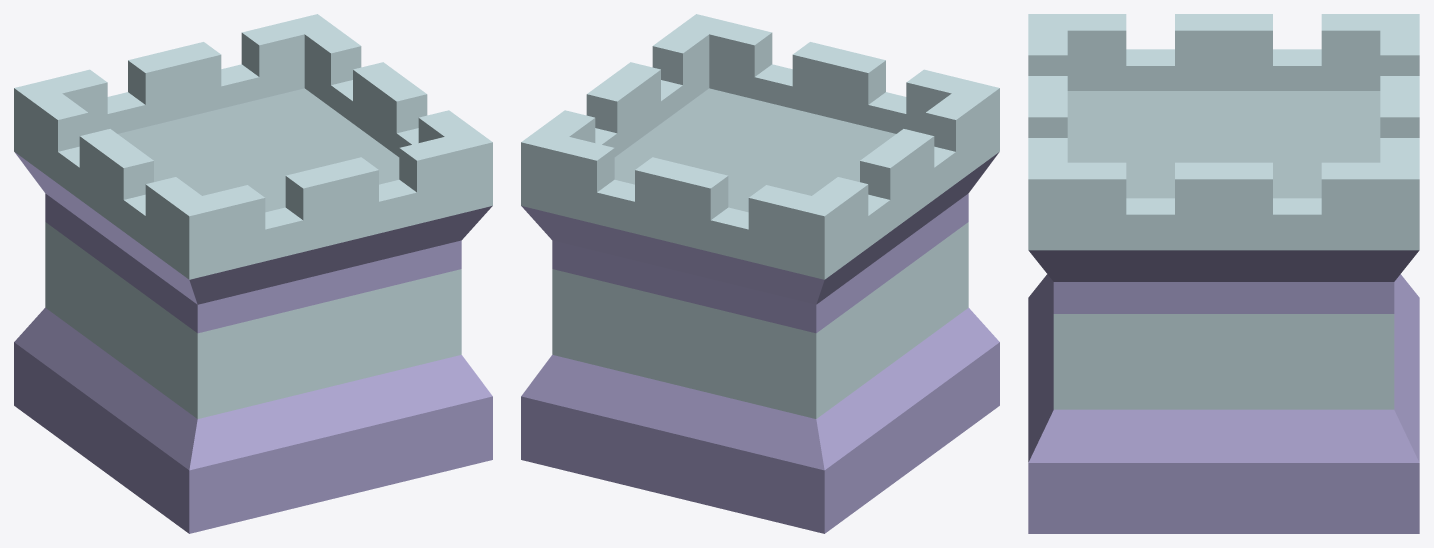
Rendered from tower_short.glb.
3 views of the same model, side by side, from view 1: azimuth 30°, elevation 25°; view 2: azimuth 150°, elevation 25°; view 3: azimuth 270°, elevation 25° (orthographic). The views are drawn at different scales.
Parts seen in each view (by area): view 1: towerSquare_sampleA; view 2: towerSquare_sampleA; view 3: towerSquare_sampleA.
Part boxes in pixels (x1=…): towerSquare_sampleA: x1=14, y1=14, x2=492, y2=533; towerSquare_sampleA: x1=521, y1=14, x2=999, y2=533; towerSquare_sampleA: x1=1028, y1=14, x2=1419, y2=533.
Bounding box in the file's own units: 1 × 1 × 1.
